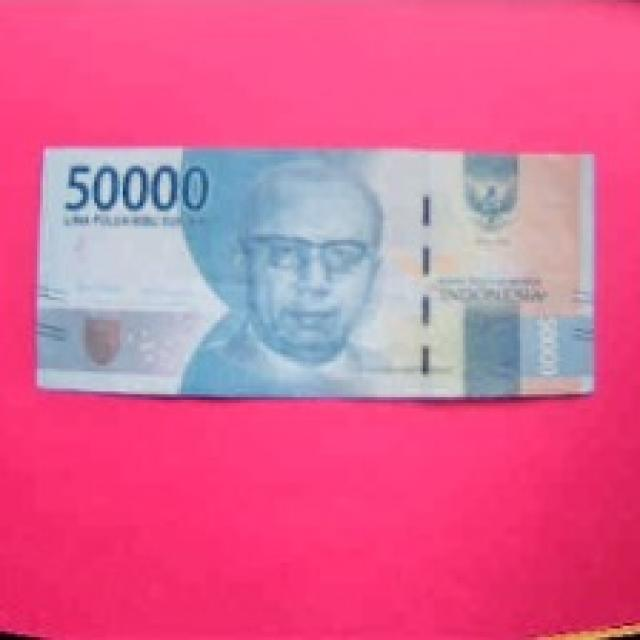dua ribu rupiah: (0, 103, 640, 488)
